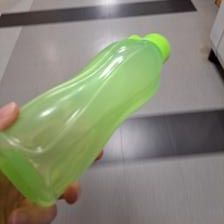bottle: (0, 30, 172, 202)
